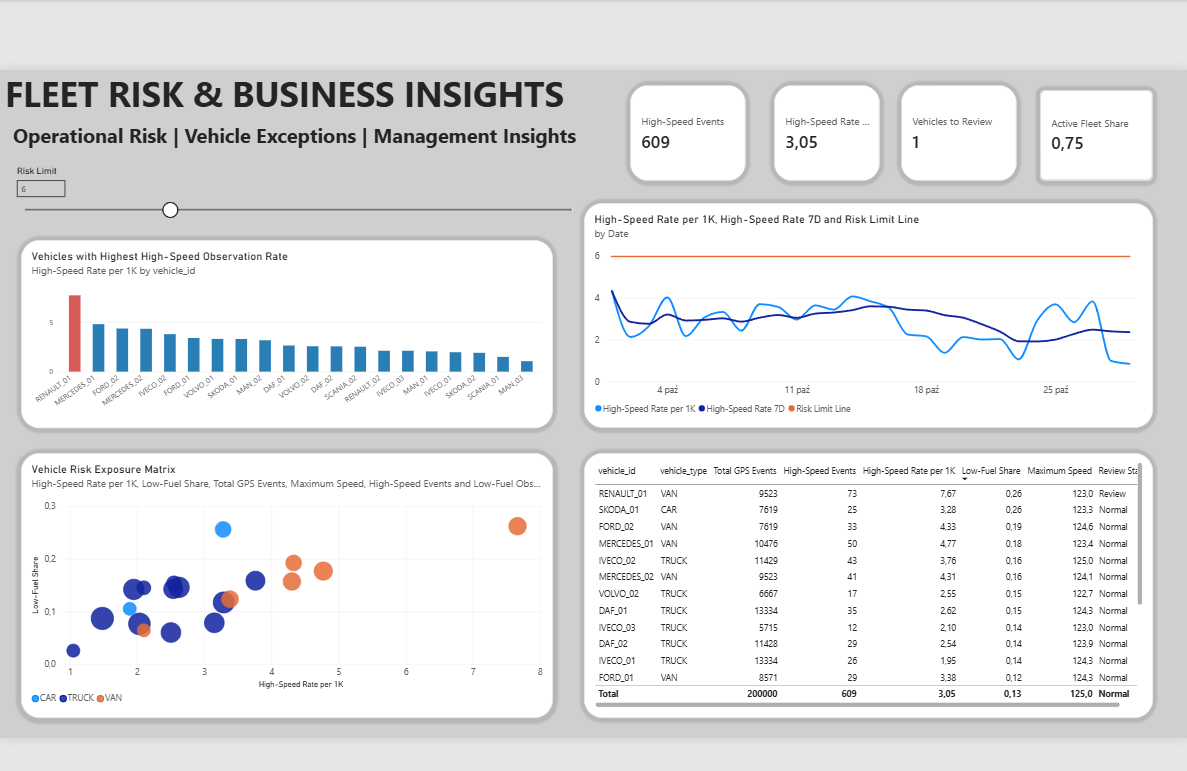

This screenshot's page, from the dashboard's own definition file:
{"tool":"powerbi","page":{"name":"Fleet Risk & Operational Insights","canvas":[1920,1080],"ordinal":2},"visuals":[{"type":"textbox","box":[10.2,0,923.5,81.7],"z":0},{"type":"textbox","box":[21.9,81.7,922.1,54],"z":1},{"type":"slicer","fields":{"Values":["Risk Limit.Risk Limit"]},"box":[21,155,922,150],"z":2},{"type":"cardVisual","fields":{"Data":["fleet gps_events.High-Speed Events"]},"box":[1018.9,24.2,187.3,155],"z":3},{"type":"cardVisual","fields":{"Data":["Calendar.High-Speed Rate per 1K"]},"box":[1251.5,24.2,171.2,155],"z":4},{"type":"cardVisual","fields":{"Data":["Calendar.Vehicles to Review"]},"box":[1456.6,24.2,187.3,155],"z":5},{"type":"cardVisual","fields":{"Data":["Calendar.Active Fleet Share"]},"box":[1681,32.3,182.5,146.9],"z":6},{"type":"lineChart","fields":{"Category":["Calendar.Date"],"Y":["Calendar.High-Speed Rate per 1K","Calendar.High-Speed Rate 7D","Calendar.Risk Limit Line"]},"box":[944.7,214.8,918.8,363.3],"z":7},{"type":"clusteredColumnChart","title":"Vehicles with Highest High-Speed Observation Rate","fields":{"Category":["fleet vehicles.vehicle_id"],"Y":["Calendar.High-Speed Rate per 1K"]},"box":[35.5,274.5,859.1,303.6],"z":8},{"type":"scatterChart","title":"Vehicle Risk Exposure Matrix","fields":{"Category":["fleet vehicles.vehicle_id"],"Series":["fleet vehicles.vehicle_type"],"Size":["fleet gps_events.Total GPS Events"],"X":["Calendar.High-Speed Rate per 1K"],"Y":["Calendar.Low-Fuel Share"]},"box":[35.5,618.5,859.1,427.9],"z":9},{"type":"tableEx","fields":{"Values":["fleet vehicles.vehicle_id","fleet vehicles.vehicle_type","fleet gps_events.Total GPS Events","fleet gps_events.High-Speed Events","Calendar.High-Speed Rate per 1K","Calendar.Low-Fuel Share","fleet gps_events.Maximum Speed","Calendar.Review Status"]},"box":[944.7,618.5,918.8,427.9],"z":10}]}

Visuals, with their boxes on the page's 1920x1080 design canvas (x1, y1, x2, y2). These are canvas units, not pixel positions in the 1187x771 screenshot, which may show the page scaled, cropped or inside an application window:
textbox: 10, 0, 934, 82
textbox: 22, 82, 944, 136
slicer - Risk Limit.Risk Limit: 21, 155, 943, 305
cardVisual - fleet gps_events.High-Speed Events: 1019, 24, 1206, 179
cardVisual - Calendar.High-Speed Rate per 1K: 1252, 24, 1423, 179
cardVisual - Calendar.Vehicles to Review: 1457, 24, 1644, 179
cardVisual - Calendar.Active Fleet Share: 1681, 32, 1864, 179
lineChart - Calendar.Date x Calendar.High-Speed Rate per 1K: 945, 215, 1864, 578
"Vehicles with Highest High-Speed Observation Rate" clusteredColumnChart: 36, 274, 895, 578
"Vehicle Risk Exposure Matrix" scatterChart: 36, 618, 895, 1046
tableEx - fleet vehicles.vehicle_id x fleet vehicles.vehicle_type: 945, 618, 1864, 1046
